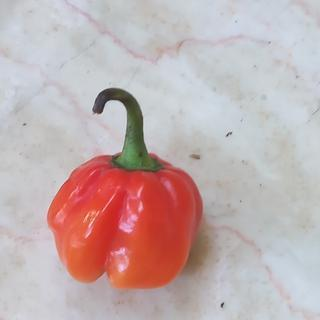Grade-B: (39, 149, 206, 295)
